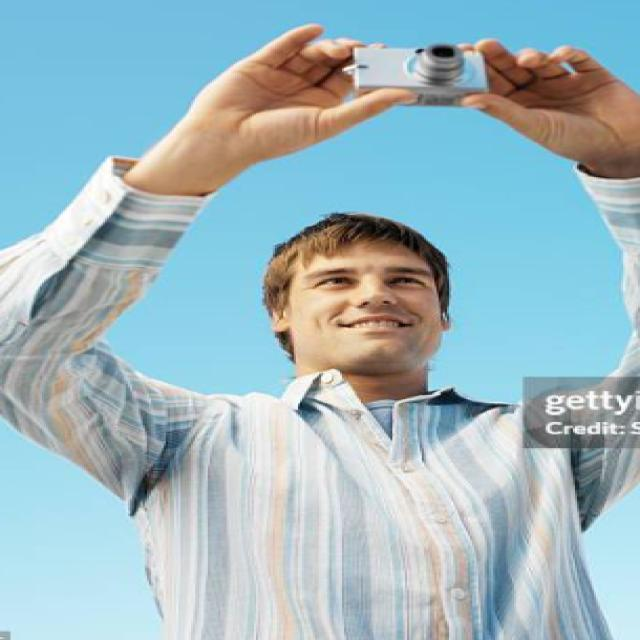face_no_mask: (271, 236, 451, 369)
